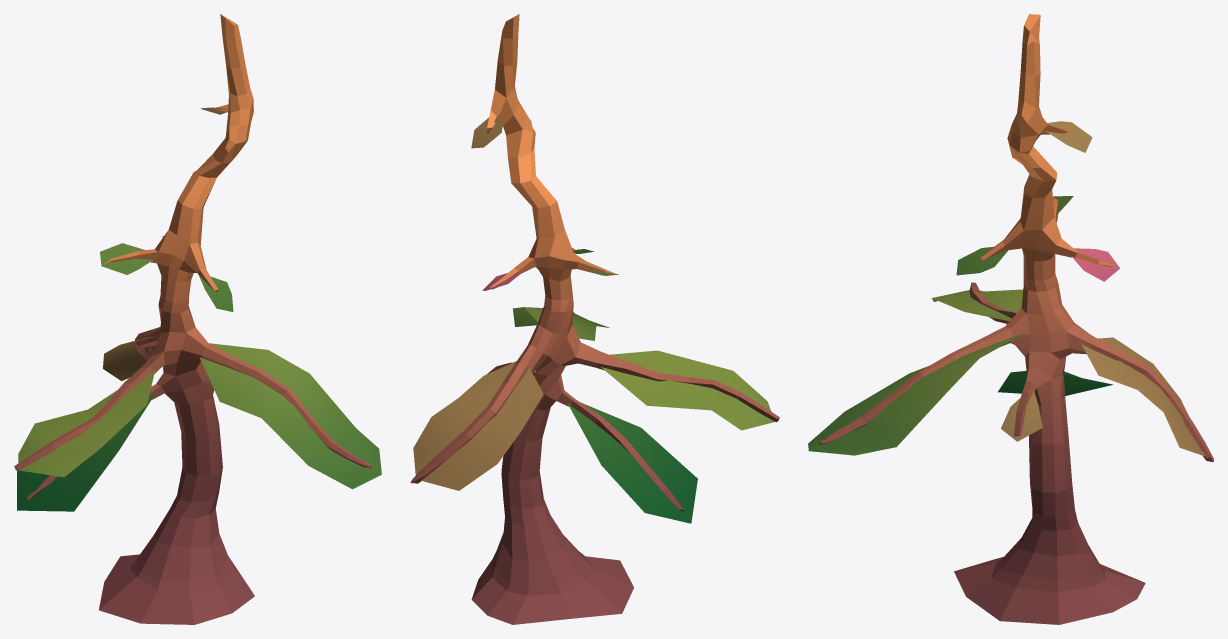
The model's file is Bare_A.fbx.
3 views of the same model, side by side, from view 1: azimuth 30°, elevation 25°; view 2: azimuth 150°, elevation 25°; view 3: azimuth 270°, elevation 25° (orthographic). The views are drawn at different scales.
Parts seen in each view (by area): view 1: Bare_A_; view 2: Bare_A_; view 3: Bare_A_.
Boxes of the visible parts, left/top/right/bottom form: Bare_A_: left=14, top=14, right=381, bottom=624; Bare_A_: left=410, top=14, right=779, bottom=624; Bare_A_: left=808, top=14, right=1213, bottom=624.
Bounding box in the file's own units: 19.55 × 34.79 × 21.35.
